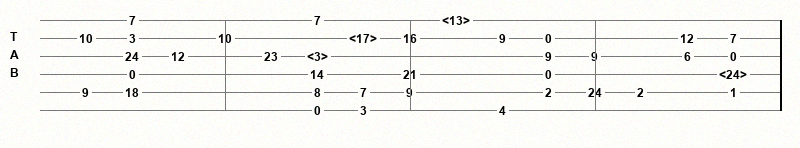0: (129, 68, 140, 81), (314, 104, 325, 117), (545, 32, 556, 45), (545, 68, 556, 81), (730, 50, 741, 63)
1: (730, 86, 741, 99)
10: (79, 32, 97, 45), (218, 32, 236, 45)
12: (171, 50, 189, 63), (680, 32, 698, 45)
14: (310, 68, 328, 81)
16: (403, 32, 421, 45)
18: (125, 86, 143, 99)
2: (545, 86, 556, 99), (637, 86, 648, 99)
21: (403, 68, 421, 81)
23: (264, 50, 282, 63)
24: (125, 50, 143, 63), (588, 86, 606, 99)
3: (129, 32, 140, 45), (360, 104, 371, 117)
4: (499, 104, 510, 117)
6: (684, 50, 695, 63)
7: (129, 14, 140, 27), (314, 14, 325, 27), (360, 86, 371, 99), (730, 32, 741, 45)
8: (314, 86, 325, 99)
9: (82, 86, 93, 99), (406, 86, 417, 99), (499, 32, 510, 45), (545, 50, 556, 63), (591, 50, 602, 63)
harmonic: (349, 32, 381, 45), (442, 14, 474, 27), (719, 68, 751, 81), (307, 50, 332, 63)
